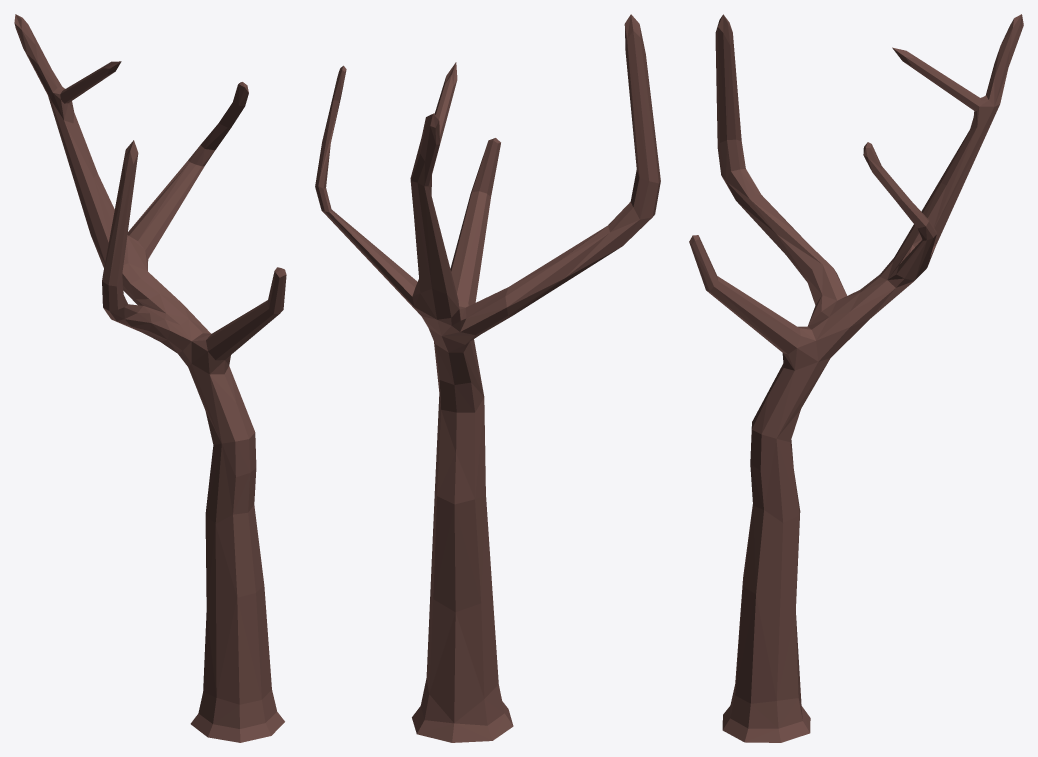
File: CommonTree_Dead_4.lod1.glb
3 renders of one model, left to right at view 1: azimuth 30°, elevation 25°; view 2: azimuth 150°, elevation 25°; view 3: azimuth 270°, elevation 25°, orthographic. The views are drawn at different scales.
Parts seen in each view (by area): view 1: CommonTree_Dead_4; view 2: CommonTree_Dead_4; view 3: CommonTree_Dead_4.
Boxes of the visible parts, x1,y1,x2,y2 form: CommonTree_Dead_4: [14, 14, 286, 742]; CommonTree_Dead_4: [315, 14, 660, 742]; CommonTree_Dead_4: [689, 14, 1023, 742].
Bounding box in the file's own units: 0.8189 × 2.37 × 1.08.
